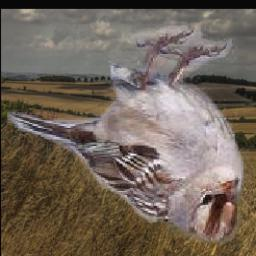Sparrow: (7, 27, 251, 244)
